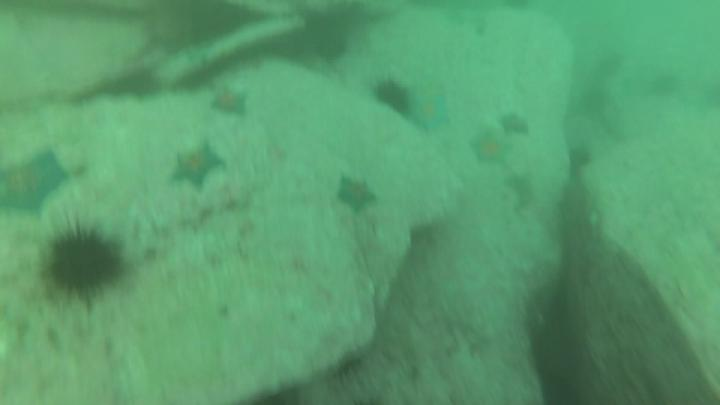echinus: (42, 222, 127, 309), (192, 1, 247, 38), (367, 76, 415, 113), (309, 29, 351, 62)
starfish: (1, 146, 70, 223), (169, 140, 227, 196), (465, 125, 518, 173), (334, 172, 381, 215), (405, 92, 453, 134), (207, 85, 255, 119), (496, 108, 534, 140)
